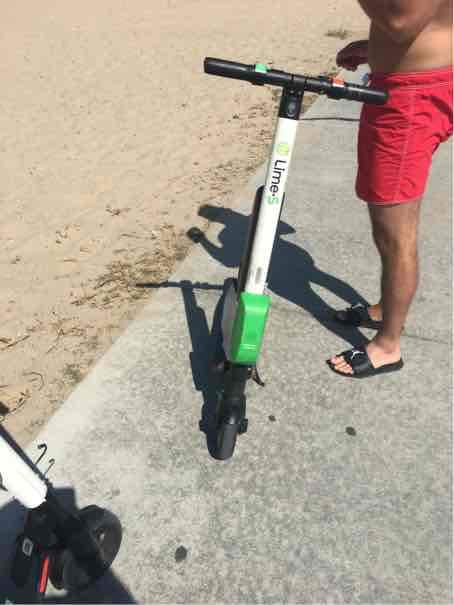scooter: (193, 51, 398, 469)
